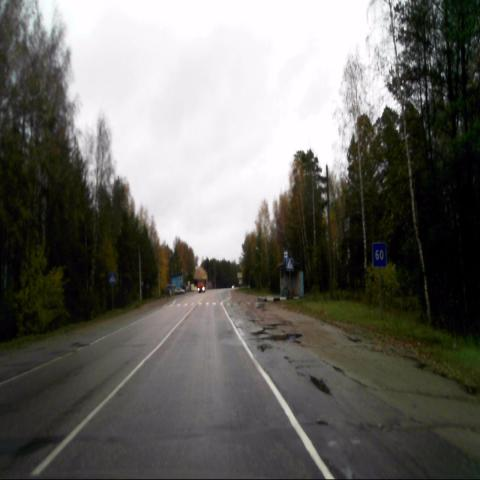6_2: (372, 241, 386, 268)
